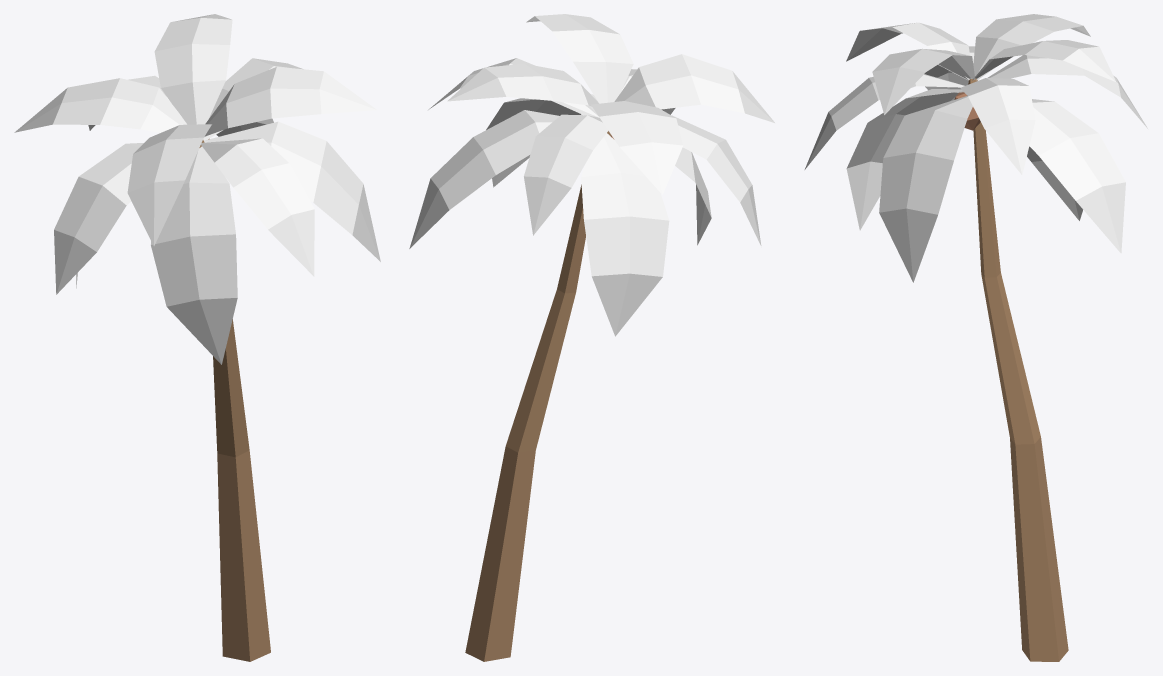
The model's file is Palm_Tree_Coconut_OneSided_l_Snow_06_LOD.fbx.
3 renders of one model, left to right at view 1: azimuth 30°, elevation 25°; view 2: azimuth 150°, elevation 25°; view 3: azimuth 270°, elevation 25°, orthographic. The views are drawn at different scales.
Parts seen in each view (by area): view 1: Palm_Tree_Coconut_OneSided_l_Snow_06_LOD0; view 2: Palm_Tree_Coconut_OneSided_l_Snow_06_LOD0; view 3: Palm_Tree_Coconut_OneSided_l_Snow_06_LOD0.
Part boxes in pixels (left/top/right/bottom): Palm_Tree_Coconut_OneSided_l_Snow_06_LOD0: left=14, top=14, right=380, bottom=661; Palm_Tree_Coconut_OneSided_l_Snow_06_LOD0: left=409, top=14, right=774, bottom=661; Palm_Tree_Coconut_OneSided_l_Snow_06_LOD0: left=804, top=14, right=1147, bottom=661.
Size of what is drawn, in the model's own units: 377 by 712 by 375.
